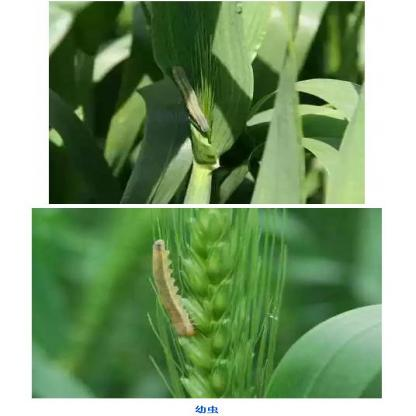sawfly: (145, 234, 204, 340), (165, 59, 222, 137)
